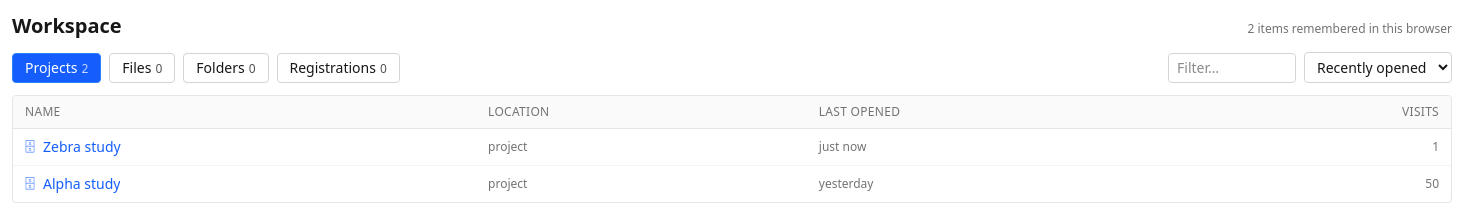
Scenario: workspace — sorting and filtering › filters by title text
The width and height of the screenshot is (1464, 220).
Check: the text "Zebra study" is shown, box [43, 137, 121, 157]
Type "alpha" into the search field named "filter workspace items". click: point(1232, 68)
box: [1168, 52, 1296, 82]
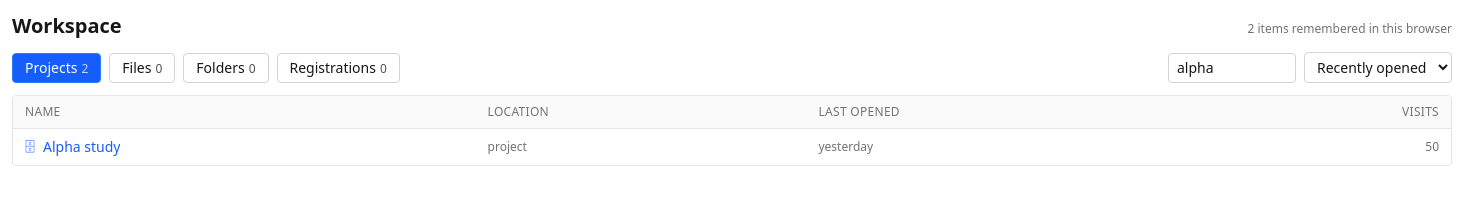
Check: the text "Alpha study" is shown, box [43, 137, 120, 157]
Check: the link "Zebra study" is gone
